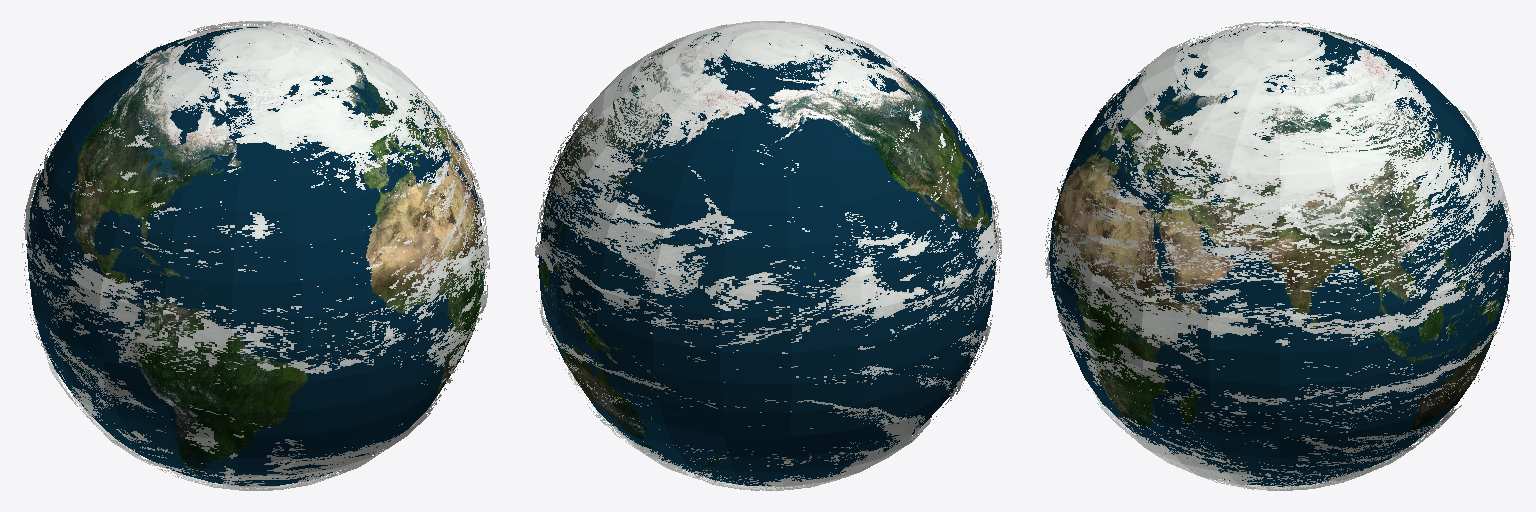
3 renders of one model, left to right at view 1: azimuth 30°, elevation 25°; view 2: azimuth 150°, elevation 25°; view 3: azimuth 270°, elevation 25°, orthographic.
Visible parts, largest first — view 1: earth, atmosphere; view 2: earth, atmosphere; view 3: earth, atmosphere.
Boxes of the visible parts, x1=… form: earth: x1=26, y1=25, x2=485, y2=485; atmosphere: x1=22, y1=21, x2=489, y2=490; earth: x1=538, y1=32, x2=996, y2=485; atmosphere: x1=535, y1=21, x2=1001, y2=490; earth: x1=1049, y1=25, x2=1510, y2=486; atmosphere: x1=1045, y1=21, x2=1514, y2=490.
Size of the model in its own units: 0.969 by 0.969 by 0.969.
Materials: 2 (2 with a texture image).